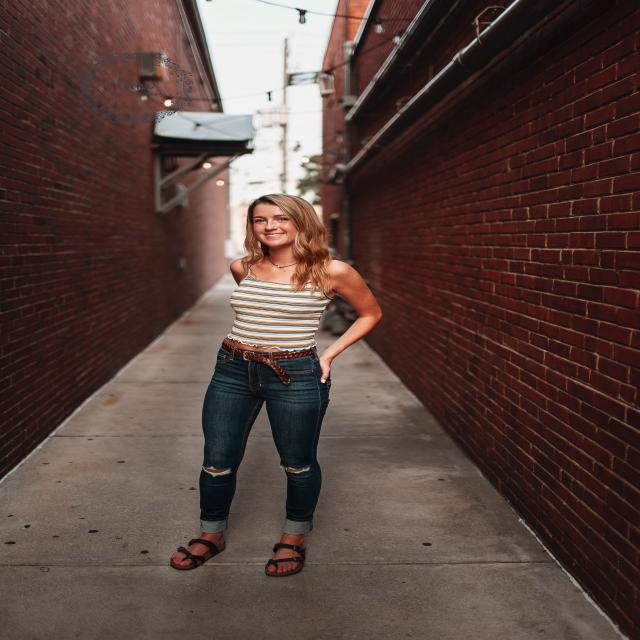adult: (174, 187, 382, 580)
